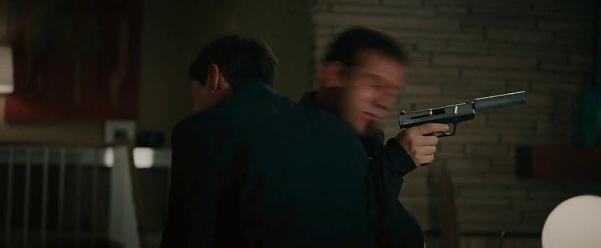Gun: (399, 88, 527, 141)
